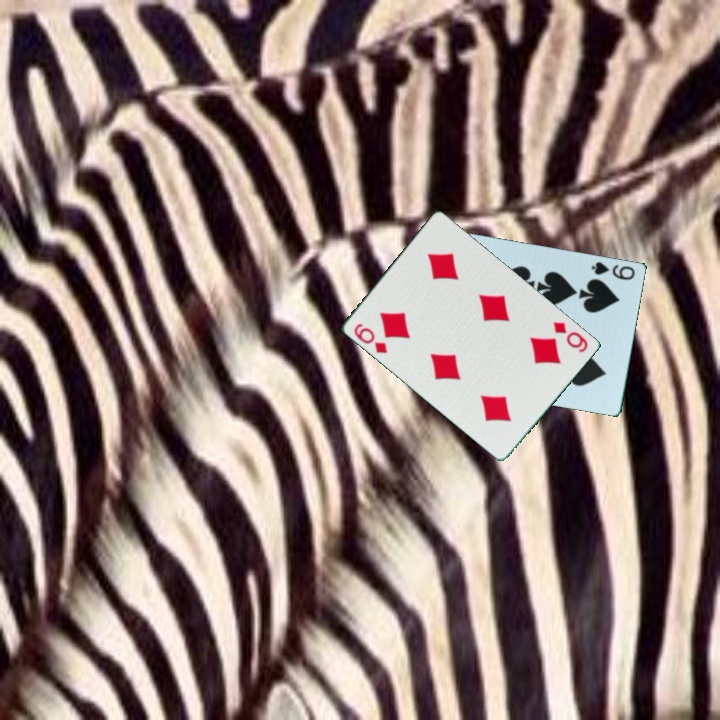6d: (549, 318, 591, 356), (350, 320, 390, 357)
9s: (588, 258, 637, 283)
